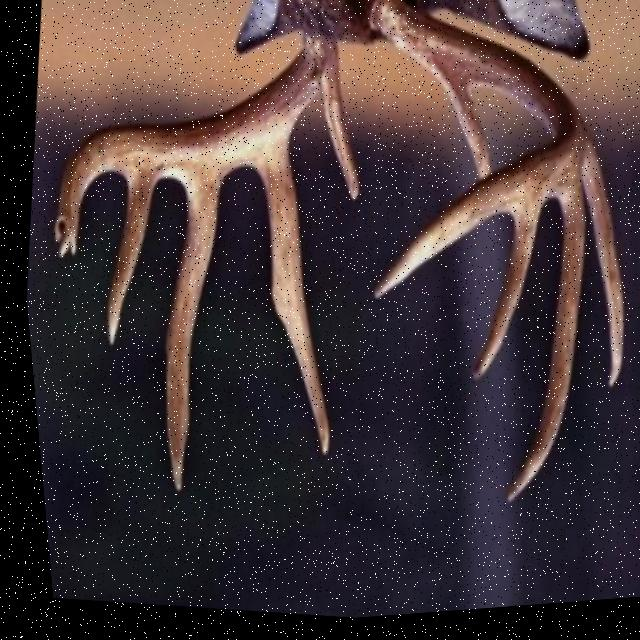L-F: (366, 0, 582, 307)
L-G1: (441, 92, 487, 184)
L-G2: (579, 138, 617, 399)
L-G3: (494, 191, 580, 513)
L-G4: (462, 214, 538, 390)
R-F: (48, 37, 337, 261)
R-G1: (318, 69, 356, 206)
R-G2: (252, 149, 321, 461)
R-G3: (156, 179, 217, 498)
R-G4: (100, 176, 153, 349)
